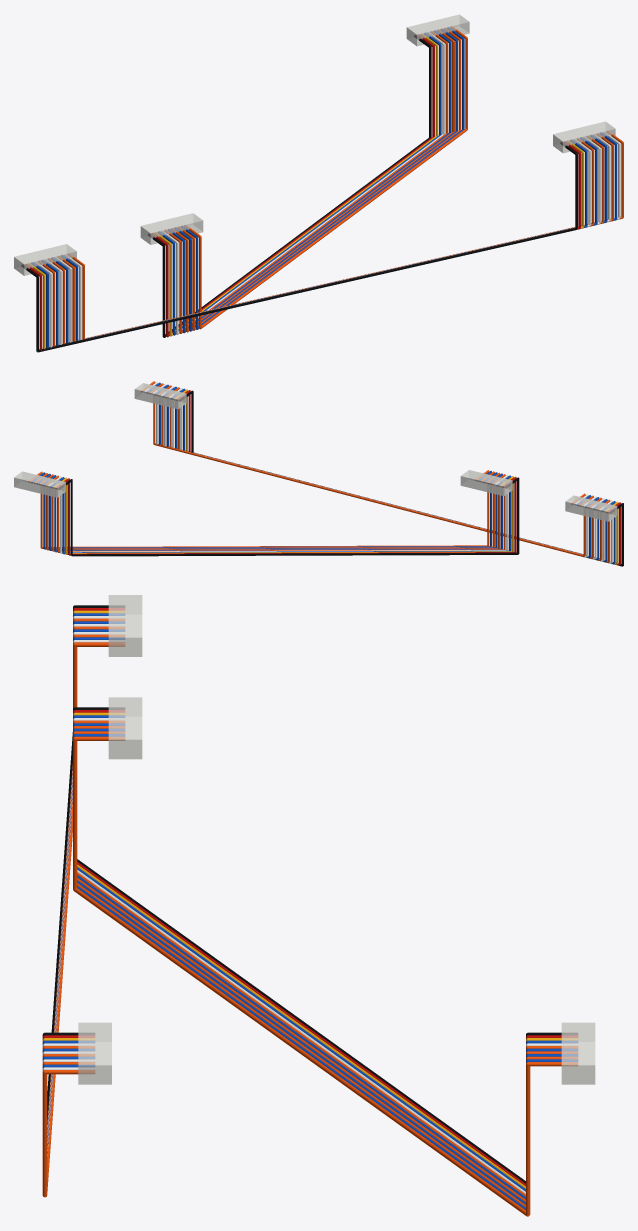
The model's file is HR30_E1_logic_harness_candidate.glb.
The picture shows the model from 3 angles, top to bottom: view 1: azimuth 30°, elevation 25°; view 2: azimuth 150°, elevation 25°; view 3: azimuth 270°, elevation 25°; orthographic projection. The views are drawn at different scales.
Visible parts, largest first — view 1: E1-HA-A_WIRE_01_CTRL_GND, E1-HA-B_WIRE_12_UART_TTL-HEAD_DIR, E1-HA-B_WIRE_11_UART_TTL-HEAD_TX, E1-HA-B_WIRE_10_UART_TTL-RDIST_DIR, E1-HA-B_WIRE_08_UART_TTL-LDIST_DIR, E1-HA-B_WIRE_06_UART_RS-WAIST_DIR, E1-HA-B_WIRE_07_UART_TTL-LDIST_TX, E1-HA-B_WIRE_03_CTRL_3V3, E1-HA-B_WIRE_04_UART_RS-WAIST_TX, E1-HA-B_WIRE_01_CTRL_GND, E1-HA-B_WIRE_09_UART_TTL-RDIST_TX, E1-HA-B_WIRE_05_UART_RS-WAIST_RX (+19 smaller); view 2: E1-HA-B_WIRE_01_CTRL_GND, E1-HA-A_WIRE_15_UART_RS-RARM_DIR, E1-HA-B_WIRE_03_CTRL_3V3, E1-HA-B_WIRE_02_CTRL_5V, E1-HA-B_WIRE_09_UART_TTL-RDIST_TX, E1-HA-B_WIRE_04_UART_RS-WAIST_TX, E1-HA-B_WIRE_12_UART_TTL-HEAD_DIR, E1-HA-B_WIRE_06_UART_RS-WAIST_DIR, E1-HA-B_WIRE_07_UART_TTL-LDIST_TX, E1-HA-B_WIRE_05_UART_RS-WAIST_RX, E1-HA-B_WIRE_10_UART_TTL-RDIST_DIR, E1-HA-B_WIRE_08_UART_TTL-LDIST_DIR (+18 smaller); view 3: E1-HA-B_WIRE_12_UART_TTL-HEAD_DIR, E1-HA-A_WIRE_15_UART_RS-RARM_DIR, E1-HA-B_MCU_GHR15_ENVELOPE, E1-HA-B_CARRIER_GHR15_ENVELOPE, E1-HA-A_MCU_GHR15_ENVELOPE, E1-HA-A_CARRIER_GHR15_ENVELOPE, E1-HA-B_WIRE_09_UART_TTL-RDIST_TX, E1-HA-B_WIRE_03_CTRL_3V3, E1-HA-B_WIRE_10_UART_TTL-RDIST_DIR, E1-HA-B_WIRE_04_UART_RS-WAIST_TX, E1-HA-B_WIRE_06_UART_RS-WAIST_DIR, E1-HA-B_WIRE_01_CTRL_GND (+6 smaller).
Boxes of the visible parts, x1,y1,x2,y2 form: E1-HA-A_WIRE_01_CTRL_GND: (21,142,577,352); E1-HA-B_WIRE_12_UART_TTL-HEAD_DIR: (184,26,467,329); E1-HA-B_WIRE_11_UART_TTL-HEAD_TX: (181,27,464,329); E1-HA-B_WIRE_10_UART_TTL-RDIST_DIR: (177,28,461,330); E1-HA-B_WIRE_08_UART_TTL-LDIST_DIR: (171,29,454,332); E1-HA-B_WIRE_06_UART_RS-WAIST_DIR: (164,31,448,333); E1-HA-B_WIRE_07_UART_TTL-LDIST_TX: (168,30,451,333); E1-HA-B_WIRE_03_CTRL_3V3: (154,33,438,336); E1-HA-B_WIRE_04_UART_RS-WAIST_TX: (158,32,441,335); E1-HA-B_WIRE_01_CTRL_GND: (148,35,431,337); E1-HA-B_WIRE_09_UART_TTL-RDIST_TX: (174,28,457,331); E1-HA-B_WIRE_05_UART_RS-WAIST_RX: (161,32,444,334); E1-HA-B_WIRE_01_CTRL_GND: (58,477,519,556); E1-HA-A_WIRE_15_UART_RS-RARM_DIR: (141,381,585,557); E1-HA-B_WIRE_03_CTRL_3V3: (53,476,513,554); E1-HA-B_WIRE_02_CTRL_5V: (55,476,516,555); E1-HA-B_WIRE_09_UART_TTL-RDIST_TX: (36,472,497,550); E1-HA-B_WIRE_04_UART_RS-WAIST_TX: (50,475,511,554); E1-HA-B_WIRE_12_UART_TTL-HEAD_DIR: (28,470,489,548); E1-HA-B_WIRE_06_UART_RS-WAIST_DIR: (45,474,505,552); E1-HA-B_WIRE_07_UART_TTL-LDIST_TX: (42,473,502,552); E1-HA-B_WIRE_05_UART_RS-WAIST_RX: (47,474,508,553); E1-HA-B_WIRE_10_UART_TTL-RDIST_DIR: (34,471,494,550); E1-HA-B_WIRE_08_UART_TTL-LDIST_DIR: (39,472,500,551); E1-HA-B_WIRE_12_UART_TTL-HEAD_DIR: (73,736,577,1216); E1-HA-A_WIRE_15_UART_RS-RARM_DIR: (42,642,124,1197); E1-HA-B_MCU_GHR15_ENVELOPE: (108,697,142,759); E1-HA-B_CARRIER_GHR15_ENVELOPE: (561,1022,595,1084); E1-HA-A_MCU_GHR15_ENVELOPE: (108,595,142,656); E1-HA-A_CARRIER_GHR15_ENVELOPE: (78,1022,111,1084); E1-HA-B_WIRE_09_UART_TTL-RDIST_TX: (73,728,577,1204); E1-HA-B_WIRE_03_CTRL_3V3: (73,712,577,1188); E1-HA-B_WIRE_10_UART_TTL-RDIST_DIR: (73,731,577,1207); E1-HA-B_WIRE_04_UART_RS-WAIST_TX: (73,715,577,1191); E1-HA-B_WIRE_06_UART_RS-WAIST_DIR: (73,720,577,1196); E1-HA-B_WIRE_01_CTRL_GND: (73,707,577,1183).
Size of the model in its own units: 221 by 35.57 by 110.
